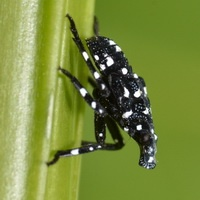insect: (47, 14, 156, 168)
